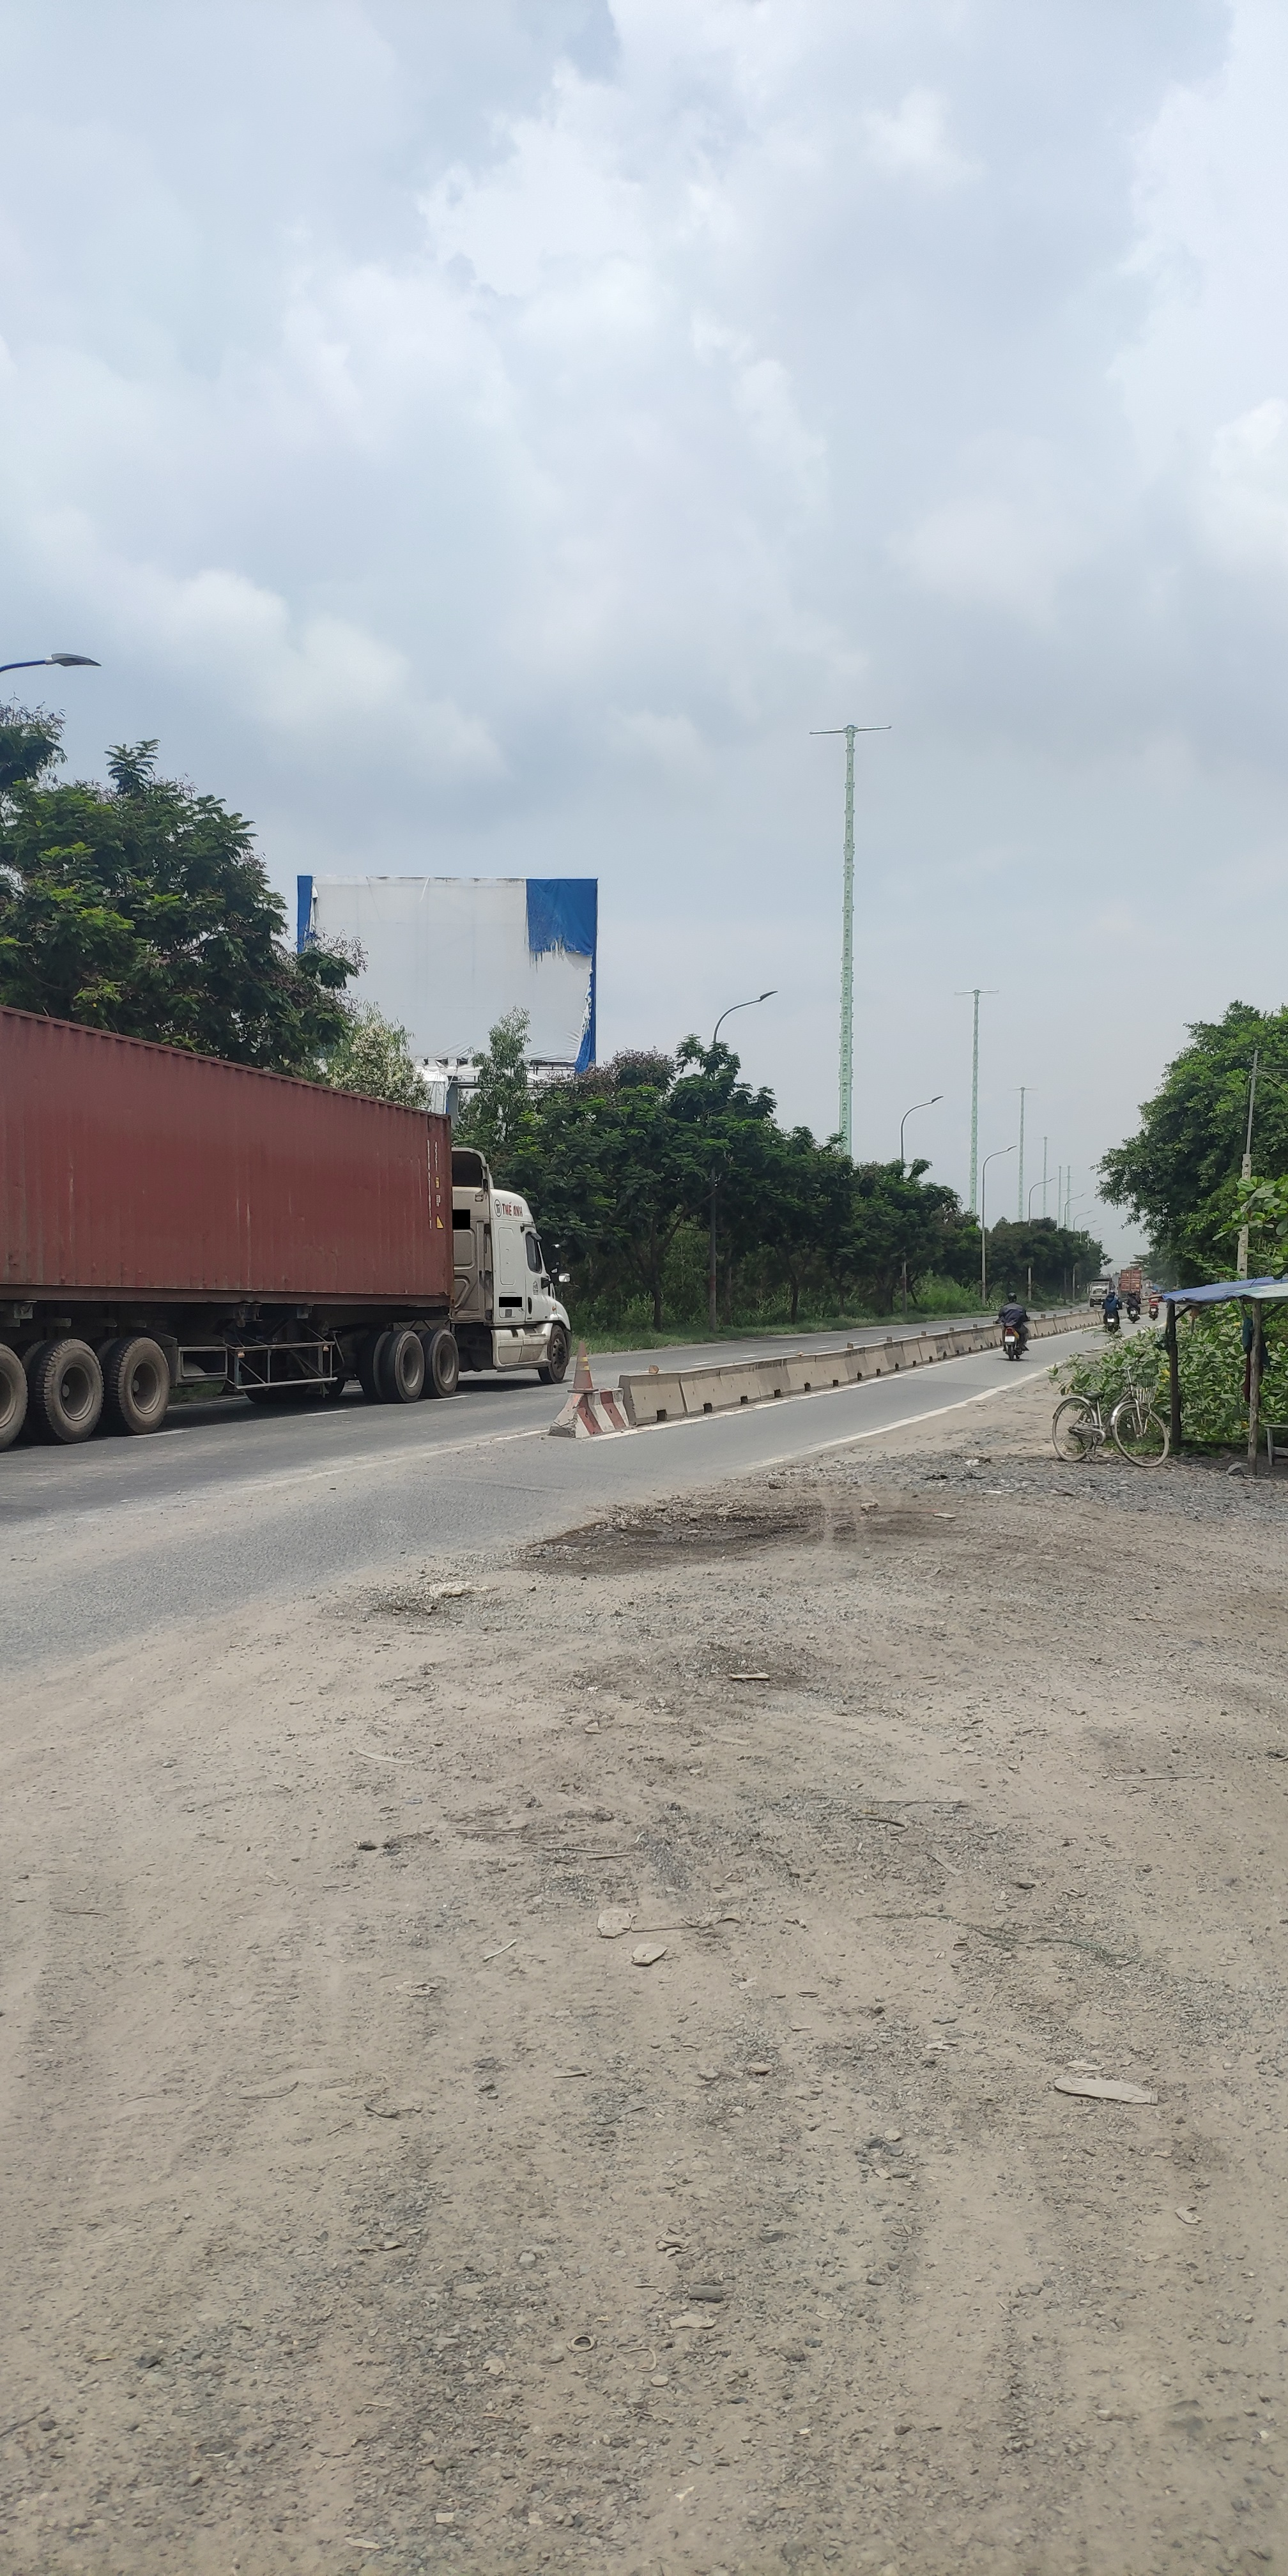hole: (315, 1577, 498, 1636), (618, 1498, 780, 1549)
